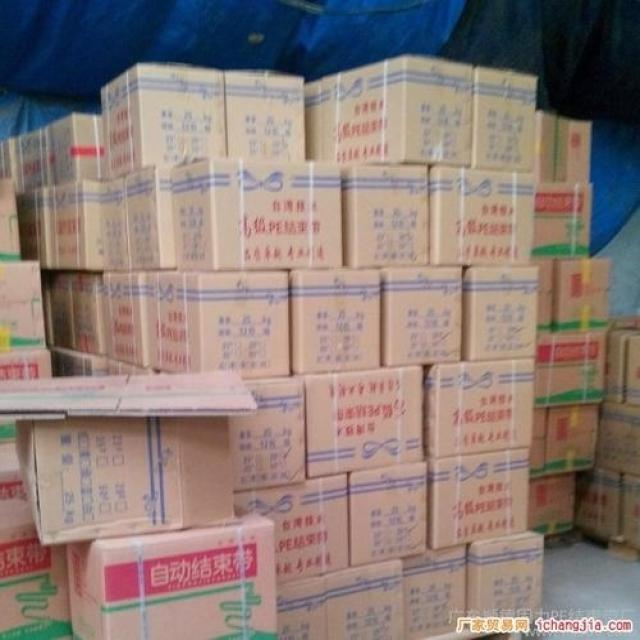box: (0, 367, 262, 548), (63, 509, 278, 640), (170, 162, 344, 274), (302, 58, 475, 168), (143, 271, 293, 382), (105, 62, 228, 182), (301, 362, 424, 480), (0, 442, 70, 640), (230, 472, 351, 583), (425, 357, 536, 459), (425, 446, 530, 550), (431, 165, 535, 269), (342, 164, 433, 270), (289, 270, 380, 374), (228, 376, 307, 487), (15, 182, 106, 273), (348, 458, 426, 564), (381, 269, 465, 367), (468, 534, 548, 629), (18, 114, 111, 192), (225, 77, 310, 162), (461, 265, 539, 357), (401, 540, 470, 636), (323, 558, 406, 637), (474, 68, 538, 170), (42, 269, 105, 360), (534, 329, 609, 405), (529, 401, 600, 477), (125, 165, 174, 271), (538, 258, 609, 331), (532, 184, 591, 264), (0, 259, 47, 353), (536, 109, 590, 186), (104, 270, 145, 371), (573, 468, 622, 539), (595, 400, 640, 475), (99, 175, 133, 271), (527, 471, 573, 535), (278, 574, 325, 636), (608, 331, 639, 403), (0, 178, 22, 261), (50, 348, 108, 376), (0, 347, 52, 375), (0, 419, 24, 443)
